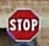stop: (4, 6, 41, 42)
